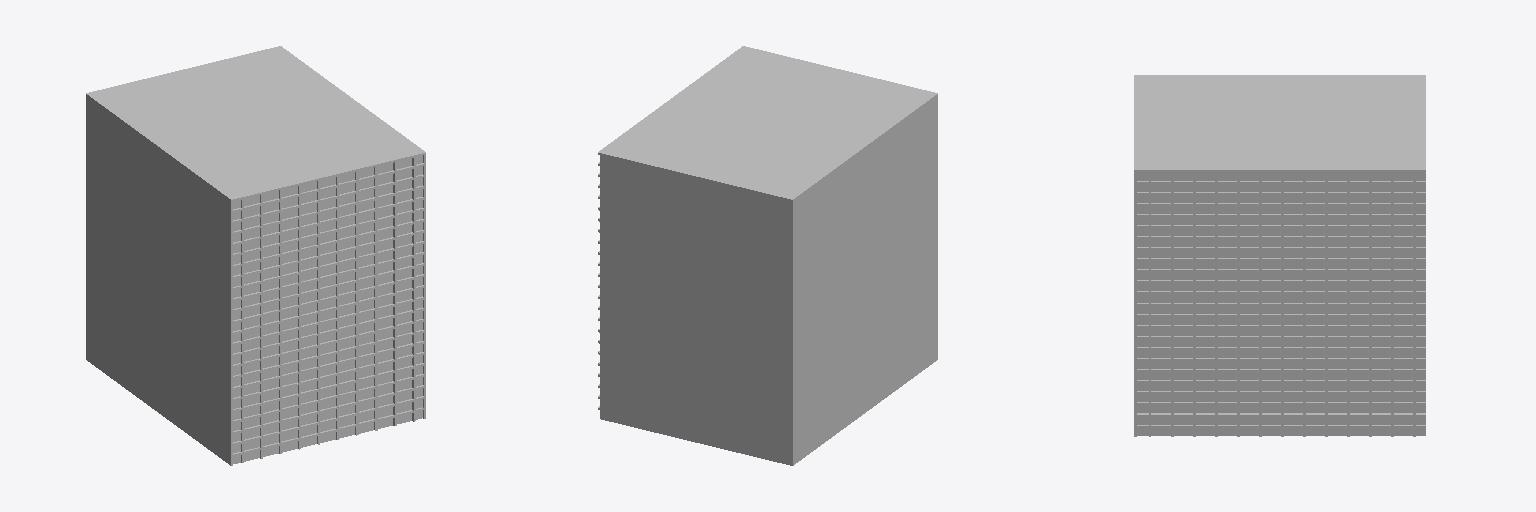
Rendered from 3d fon 1.1-12.obj.
3 renders of one model, left to right at view 1: azimuth 30°, elevation 25°; view 2: azimuth 150°, elevation 25°; view 3: azimuth 270°, elevation 25°, orthographic.
Visible parts, largest first — view 1: object 1; view 2: object 1; view 3: object 1.
Boxes of the visible parts, x1,y1,x2,y2 form: object 1: [86, 46, 425, 465]; object 1: [598, 46, 937, 465]; object 1: [1134, 75, 1425, 436].
Size of the model in its own units: 9.2 by 12 by 11.9.